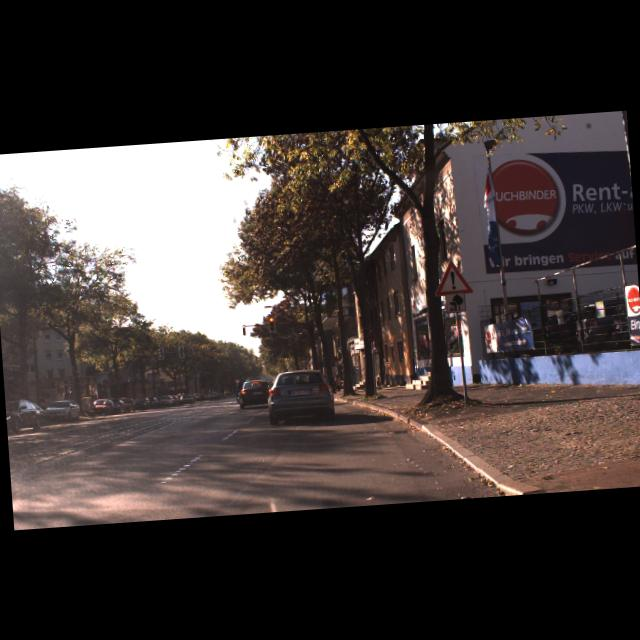danger: (432, 257, 472, 296)
